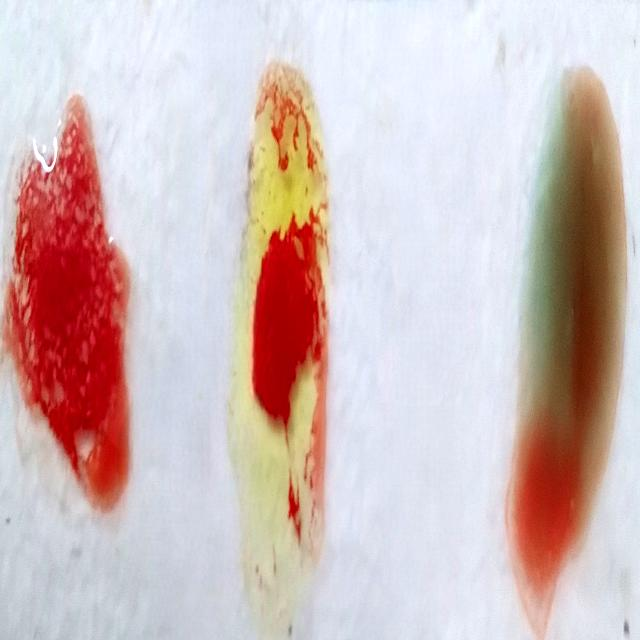B: (237, 74, 340, 632)
D: (14, 98, 136, 519)
